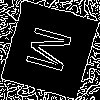M: (25, 24, 82, 77)
